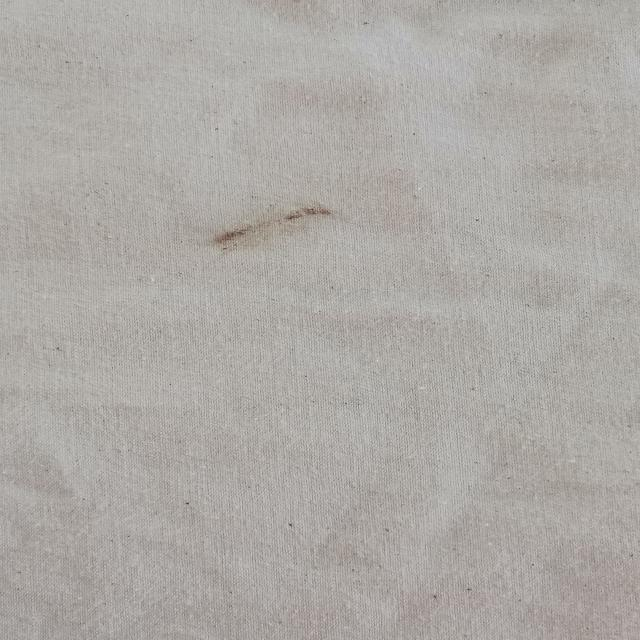taaaches: (189, 190, 360, 260)
